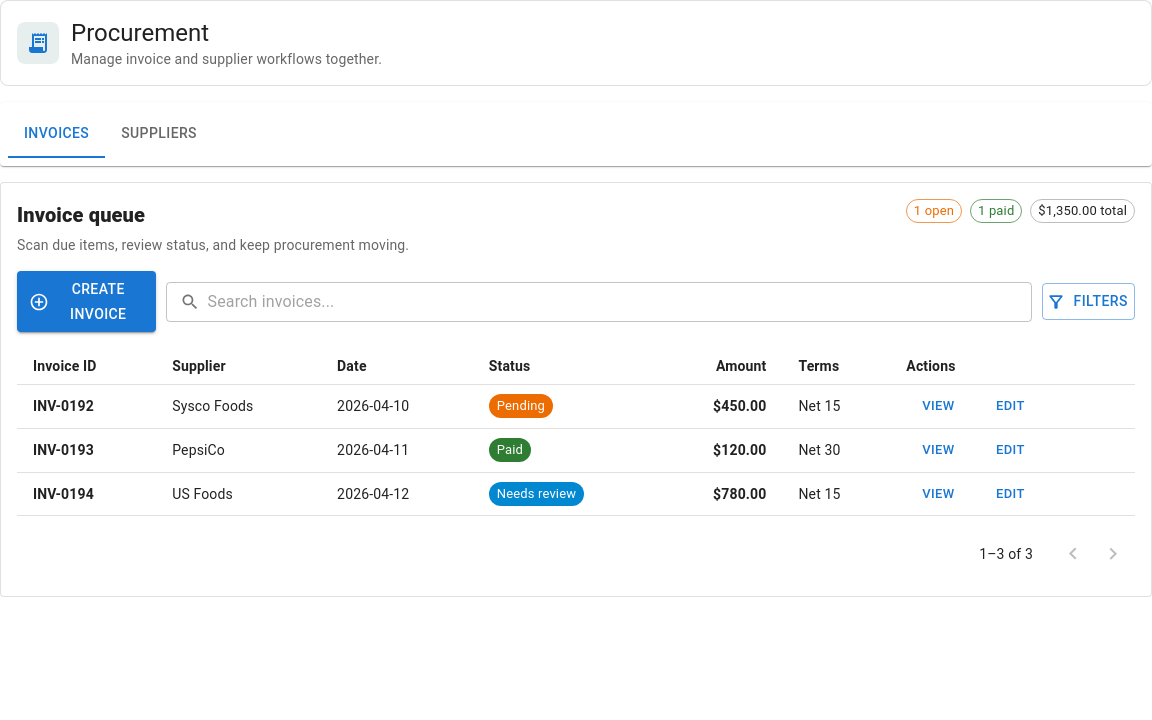
Scenario: ProcurementHubPage › renders procurement tabs and switches to suppliers view
This screenshot has width=1152, height=720.
Check: the heading "Procurement" is shown, box [71,19,209,47]
Check: the tab "Invoices" is shown, box [8,110,105,158]
Click the tab "Suppliers".
click(159, 134)  # box [105,110,213,158]
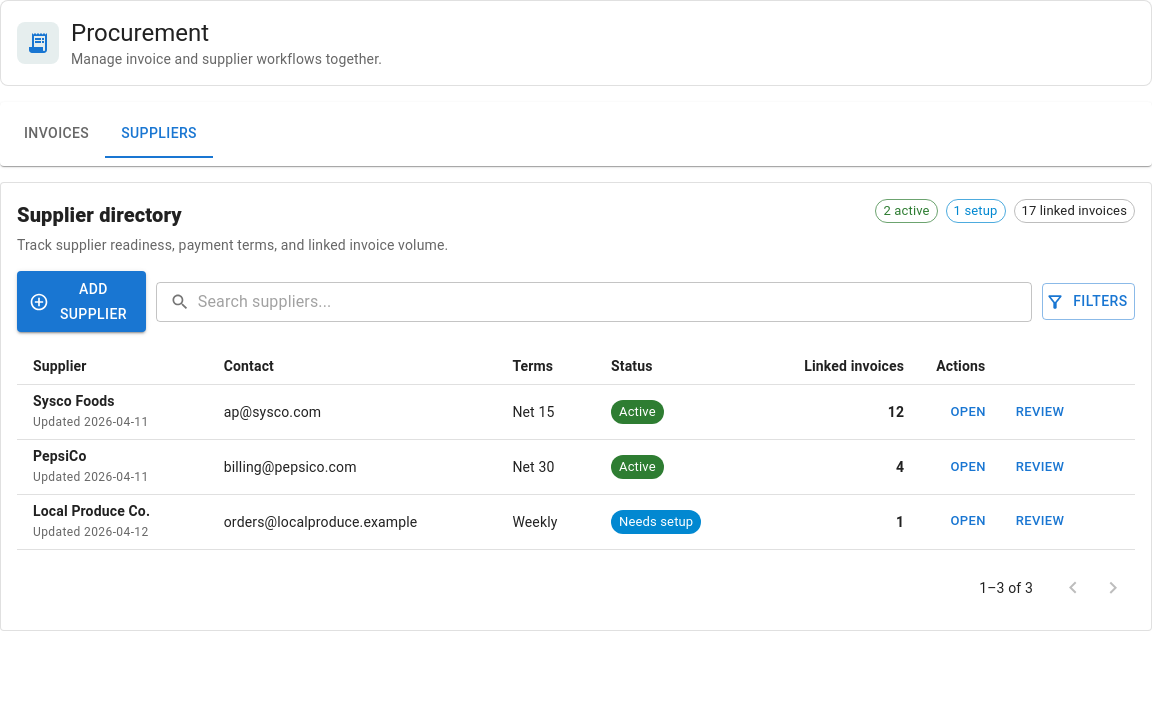
Check: the button "Add supplier" is shown, box [17,271,146,332]
Check: the heading "Supplier directory" is shown, box [17,203,182,227]
Check: the column heading "Supplier" is shown, box [17,348,208,384]
